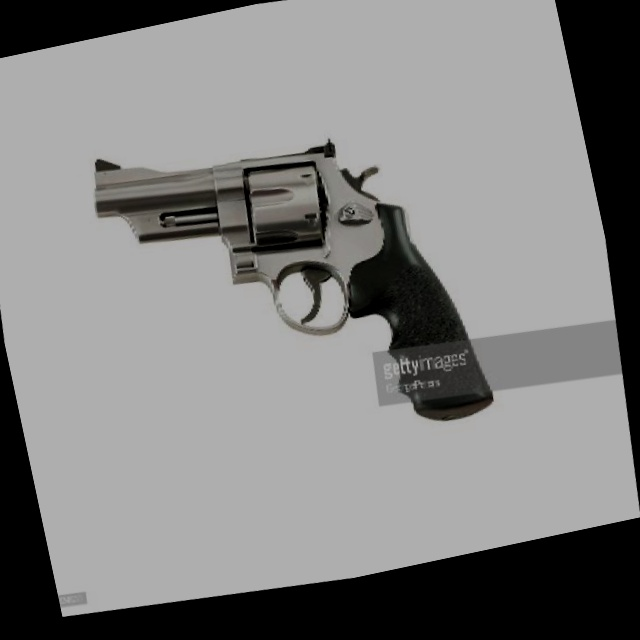gun: (40, 70, 532, 494)
